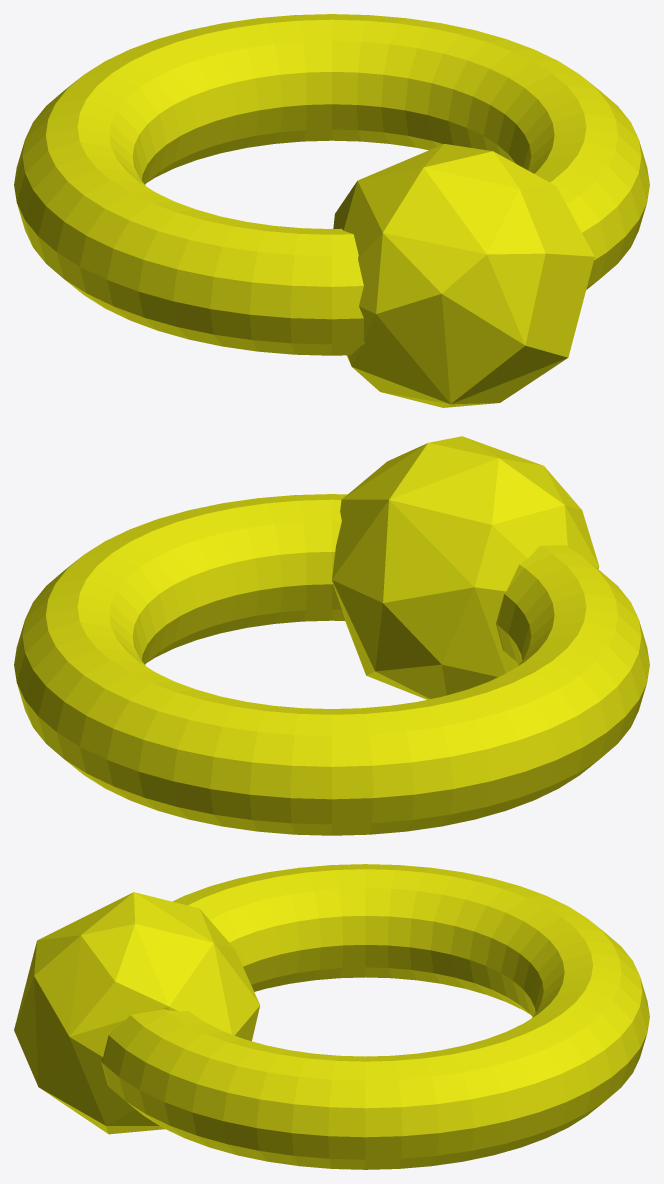
Rendered from amulet_01.glb.
3 renders of one model, top to bottom at view 1: azimuth 30°, elevation 25°; view 2: azimuth 150°, elevation 25°; view 3: azimuth 270°, elevation 25°, orthographic. The views are drawn at different scales.
Visible parts, largest first — view 1: Torus; view 2: Torus; view 3: Torus.
Part boxes in pixels (<box>): Torus: <box>14,14,649,407</box>; Torus: <box>14,436,649,835</box>; Torus: <box>14,864,649,1169</box>.
Size of the model in its own units: 0.625 by 0.2653 by 0.6985.
